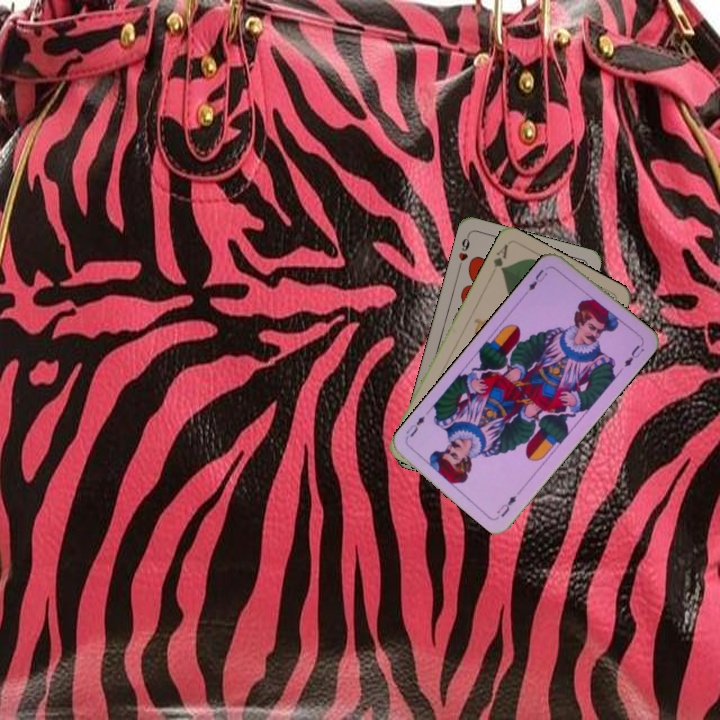EU: (493, 491, 519, 520), (524, 265, 550, 293)
GA: (489, 240, 511, 275)
H9: (454, 231, 472, 271)
